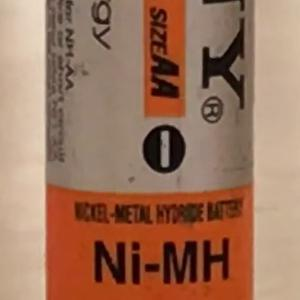keyword: (84, 228, 239, 295)
